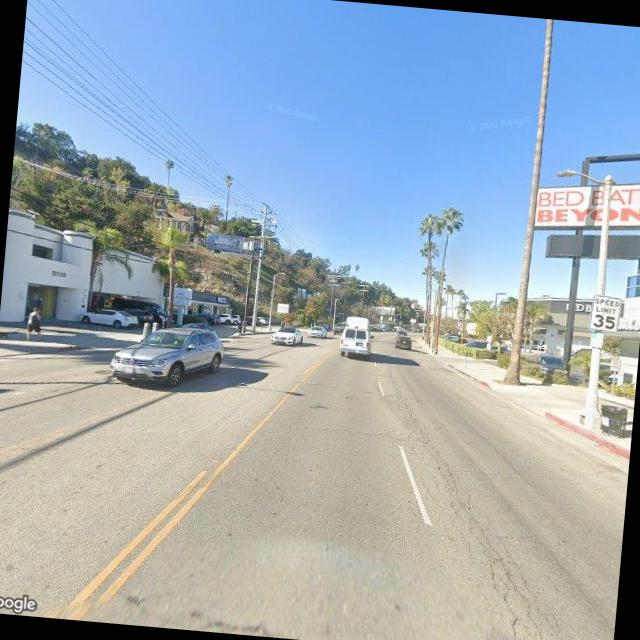pothole: (367, 372, 551, 634)
